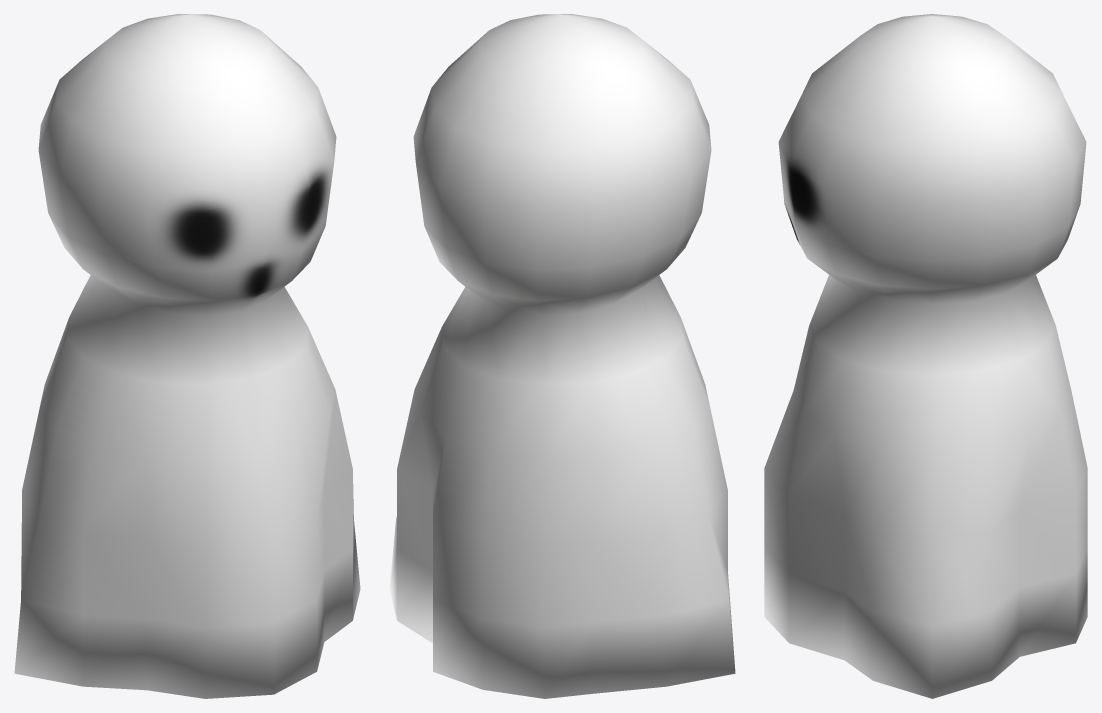
Rendered from ghost_04.FBX.
3 renders of one model, left to right at view 1: azimuth 30°, elevation 25°; view 2: azimuth 150°, elevation 25°; view 3: azimuth 270°, elevation 25°, orthographic. The views are drawn at different scales.
Parts seen in each view (by area): view 1: Cylinder001; view 2: Cylinder001; view 3: Cylinder001.
Part boxes in pixels (left/top/right/bottom): Cylinder001: left=14, top=14, right=360, bottom=698; Cylinder001: left=389, top=14, right=735, bottom=698; Cylinder001: left=764, top=14, right=1087, bottom=698.
Bounding box in the file's own units: 48.02 × 39.94 × 81.73.
Materials: 1 (1 with a texture image).
